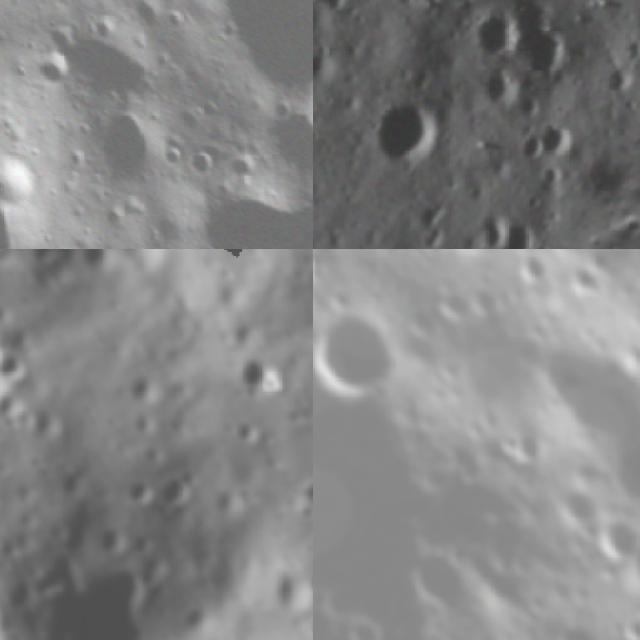crater: (527, 314, 640, 468), (313, 295, 415, 416), (206, 0, 313, 110), (352, 80, 458, 186), (438, 322, 538, 424), (32, 561, 155, 640), (497, 6, 588, 95), (89, 96, 177, 184), (451, 0, 536, 72), (401, 540, 475, 614), (579, 506, 640, 571), (468, 62, 531, 124), (531, 112, 588, 170), (547, 482, 604, 538), (456, 197, 517, 249), (28, 47, 80, 96), (556, 257, 606, 306), (313, 583, 354, 640), (154, 466, 199, 517), (226, 354, 278, 398), (431, 281, 479, 328), (270, 566, 313, 617), (487, 215, 546, 249), (544, 612, 611, 640), (313, 38, 344, 95), (335, 609, 389, 640), (577, 249, 620, 285), (464, 282, 502, 322), (186, 142, 225, 180), (509, 249, 549, 285), (0, 350, 35, 390), (123, 477, 156, 517), (0, 387, 31, 427), (490, 427, 524, 462), (290, 476, 313, 513), (615, 609, 640, 640), (96, 526, 123, 554), (134, 531, 156, 555), (108, 237, 145, 249)
